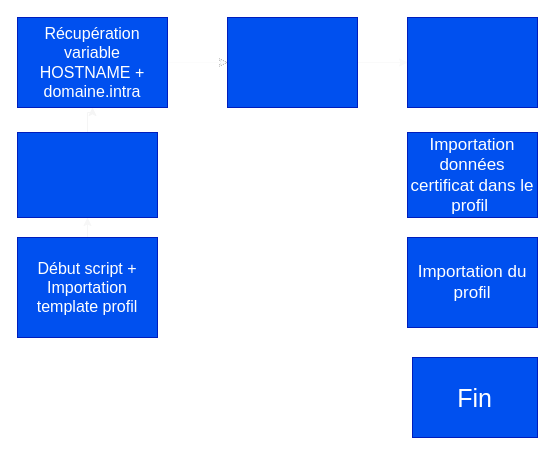
Image size: 555x455. Some labels were removed from this diagram. Here are the shapes that lost their labels. From the top down, the centre of each, then its label:
the point at 292,62: call job jenkins génération certificat avec paramètres
the point at 472,62: Récupération certificat
the point at 87,175: Création dossier /.802.1x racine système
